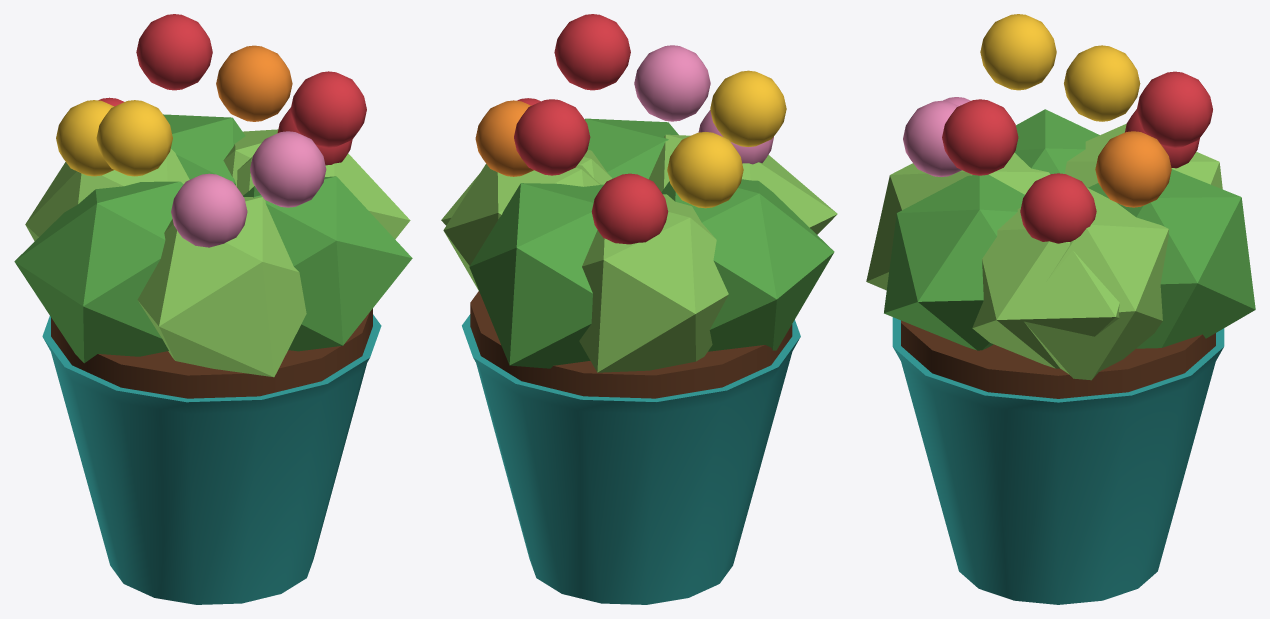
Rendered from pot_flowers.glb.
The picture shows the model from 3 angles, left to right: view 1: azimuth 30°, elevation 25°; view 2: azimuth 150°, elevation 25°; view 3: azimuth 270°, elevation 25°; orthographic projection.
Parts seen in each view (by area): view 1: root; view 2: root; view 3: root.
Part boxes in pixels (bbox=[...]): root: bbox=[14, 14, 412, 604]; root: bbox=[441, 14, 837, 604]; root: bbox=[866, 14, 1255, 604].
Size of the model in its own units: 0.4608 by 0.645 by 0.4582.
